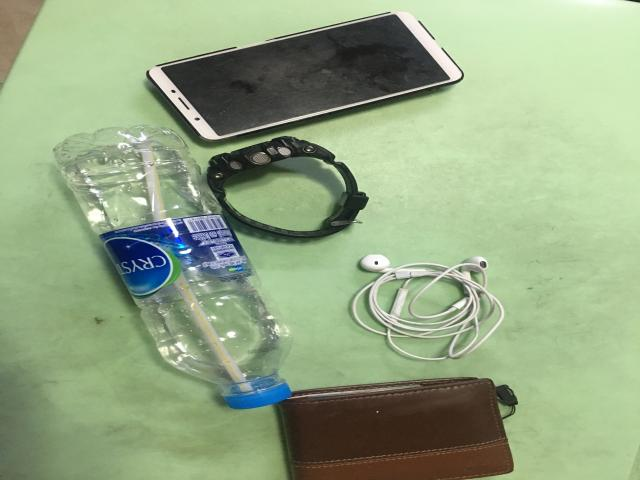Mobile phone: (147, 12, 463, 142)
Wallet: (278, 378, 513, 480)
Watch: (207, 136, 368, 238)
bottle: (53, 126, 292, 409)
wire: (352, 255, 505, 360)
